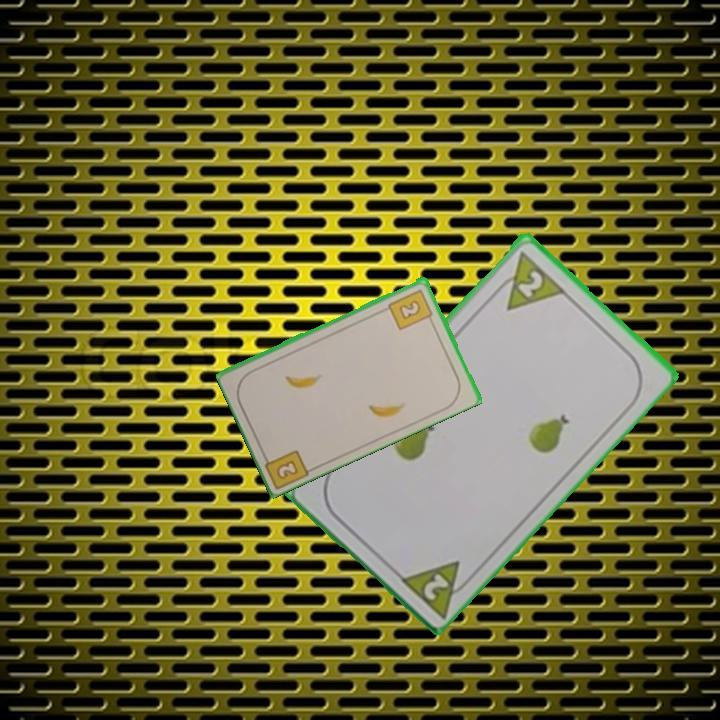2b: (385, 285, 436, 332), (259, 446, 313, 490)
2p: (394, 555, 477, 619), (488, 247, 568, 313)
